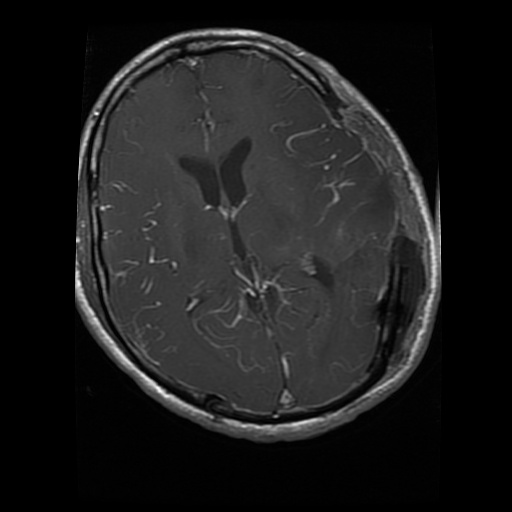glioma: (333, 233, 425, 373)
